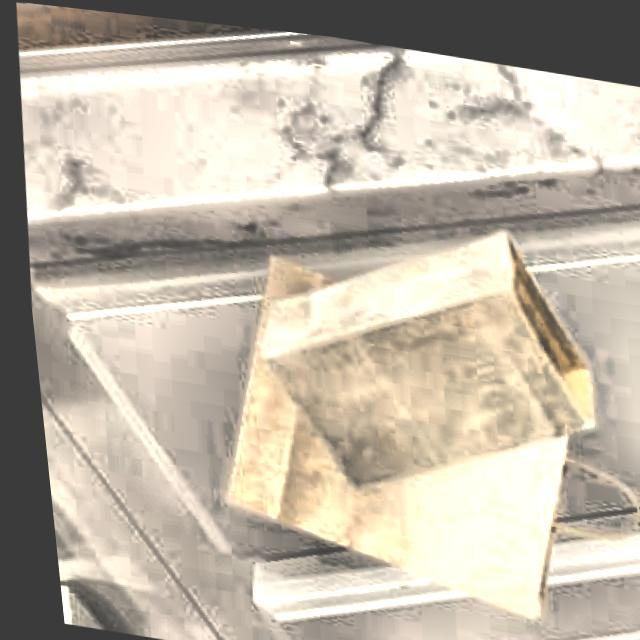Paper-bag: (216, 168, 614, 510)
